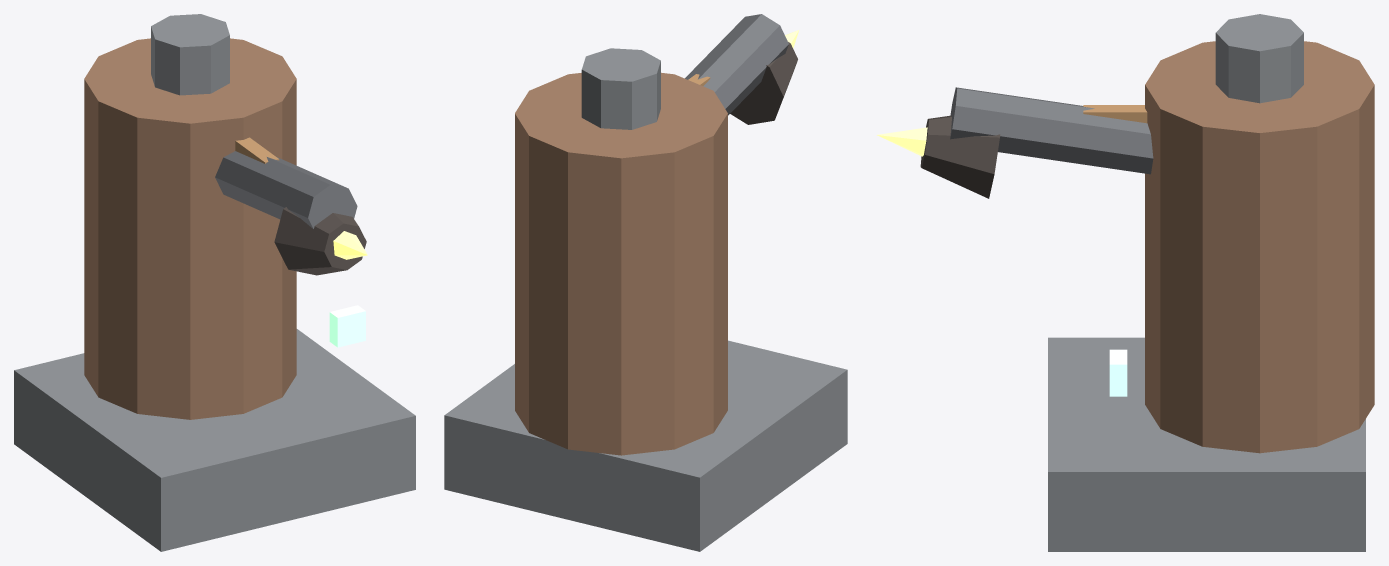
Rendered from flame_trap.glb.
3 views of the same model, side by side, from view 1: azimuth 30°, elevation 25°; view 2: azimuth 150°, elevation 25°; view 3: azimuth 270°, elevation 25° (orthographic). The views are drawn at different scales.
Visible parts, largest first — view 1: flame_trap; view 2: flame_trap; view 3: flame_trap.
Boxes of the visible parts, <box> form: flame_trap: <box>14,14,415,551</box>; flame_trap: <box>444,14,847,551</box>; flame_trap: <box>877,14,1374,551</box>.
Size of the model in its own units: 0.36 by 0.565 by 0.5644.
